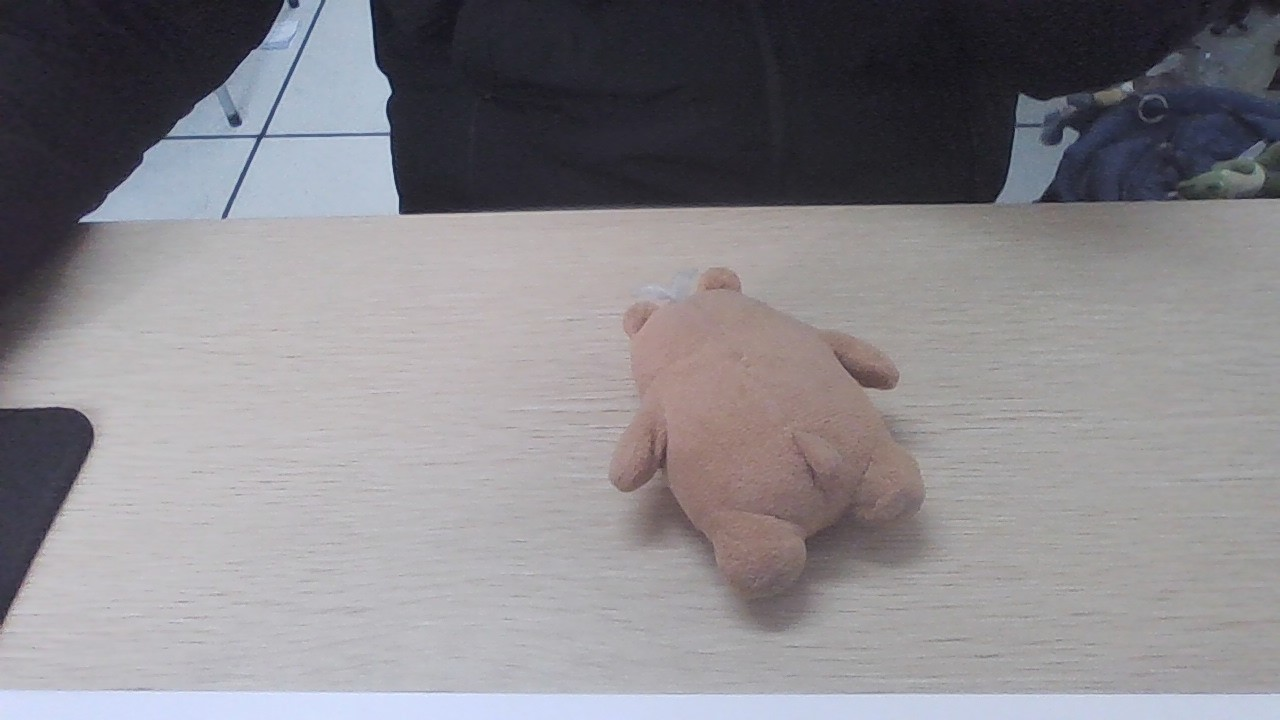KHS-doll: (611, 297, 911, 573)
